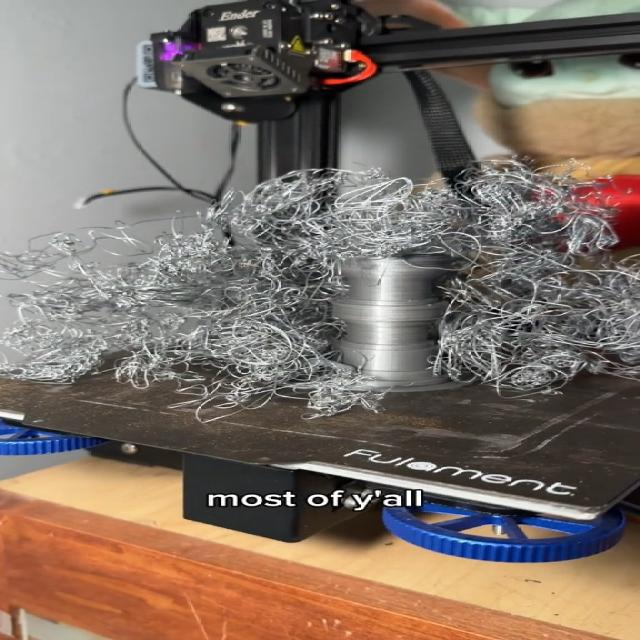spaghetti: (2, 154, 637, 423)
